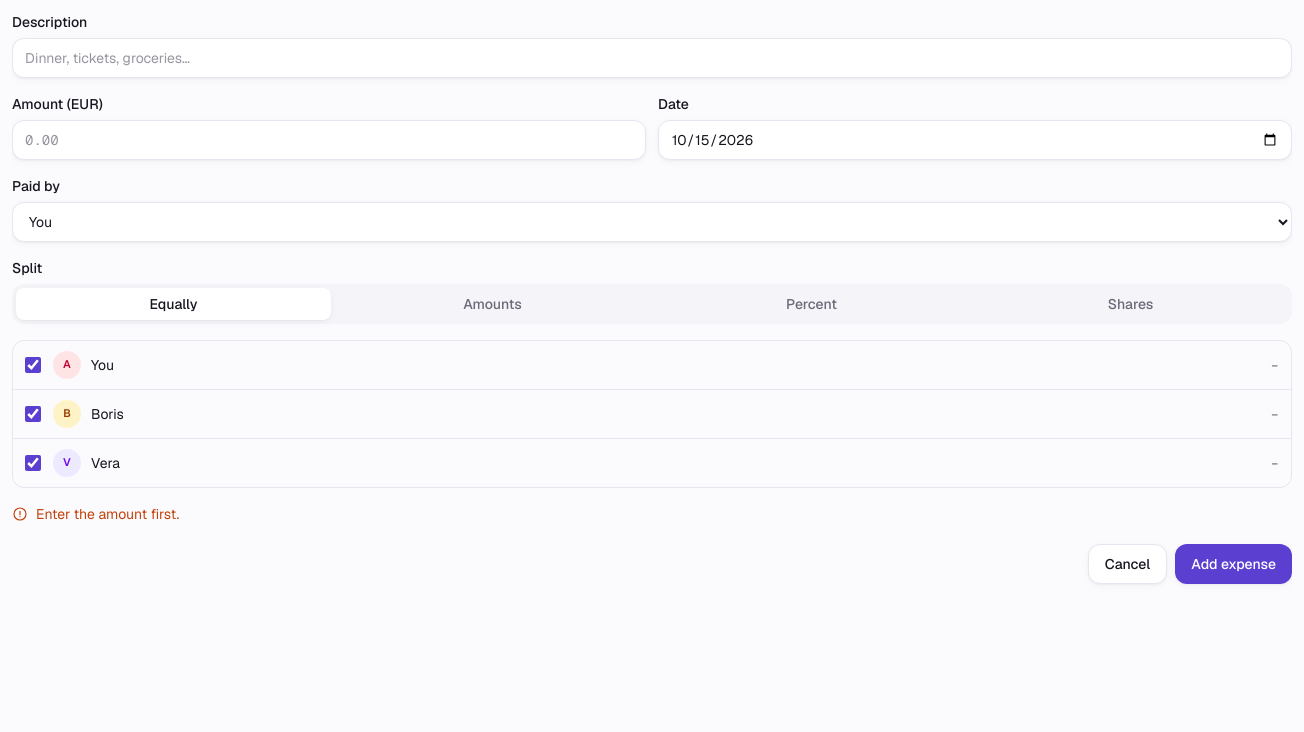
Test: ExpenseForm › shows validation messages for missing fields
Click the button "Add expense" at (1234, 564), box [1175,544,1292,584]
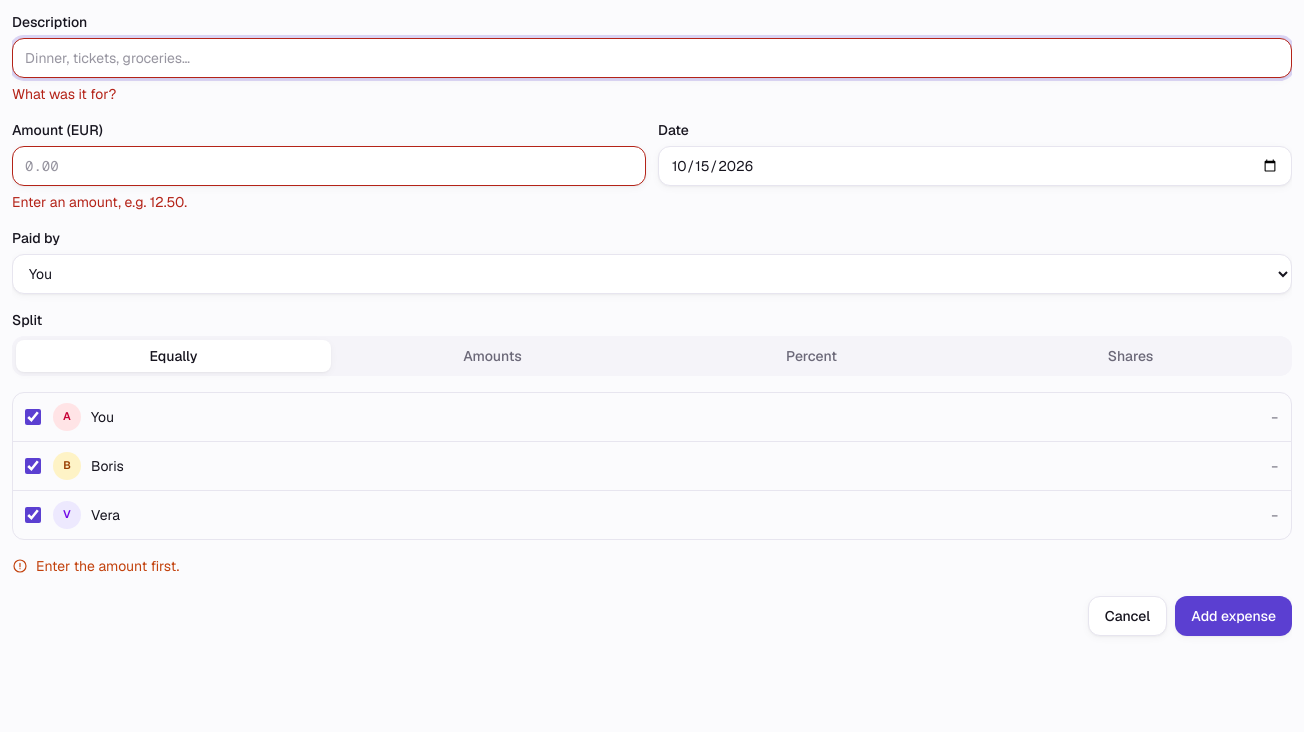
Expected: the text "What was it for?" is shown, [12,85,116,103]
Expected: the text "Enter an amount, e.g. 12.50." is shown, [12,193,187,211]
